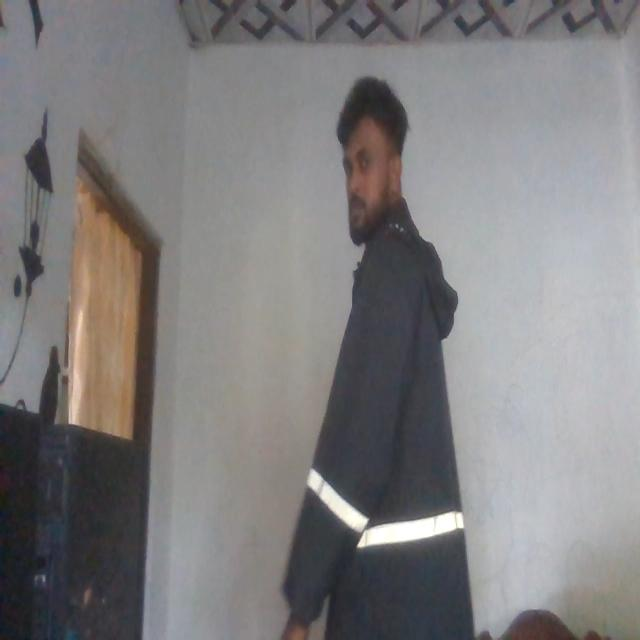Jacket_Wearer: (276, 208, 472, 640)
Person: (273, 75, 473, 640)
